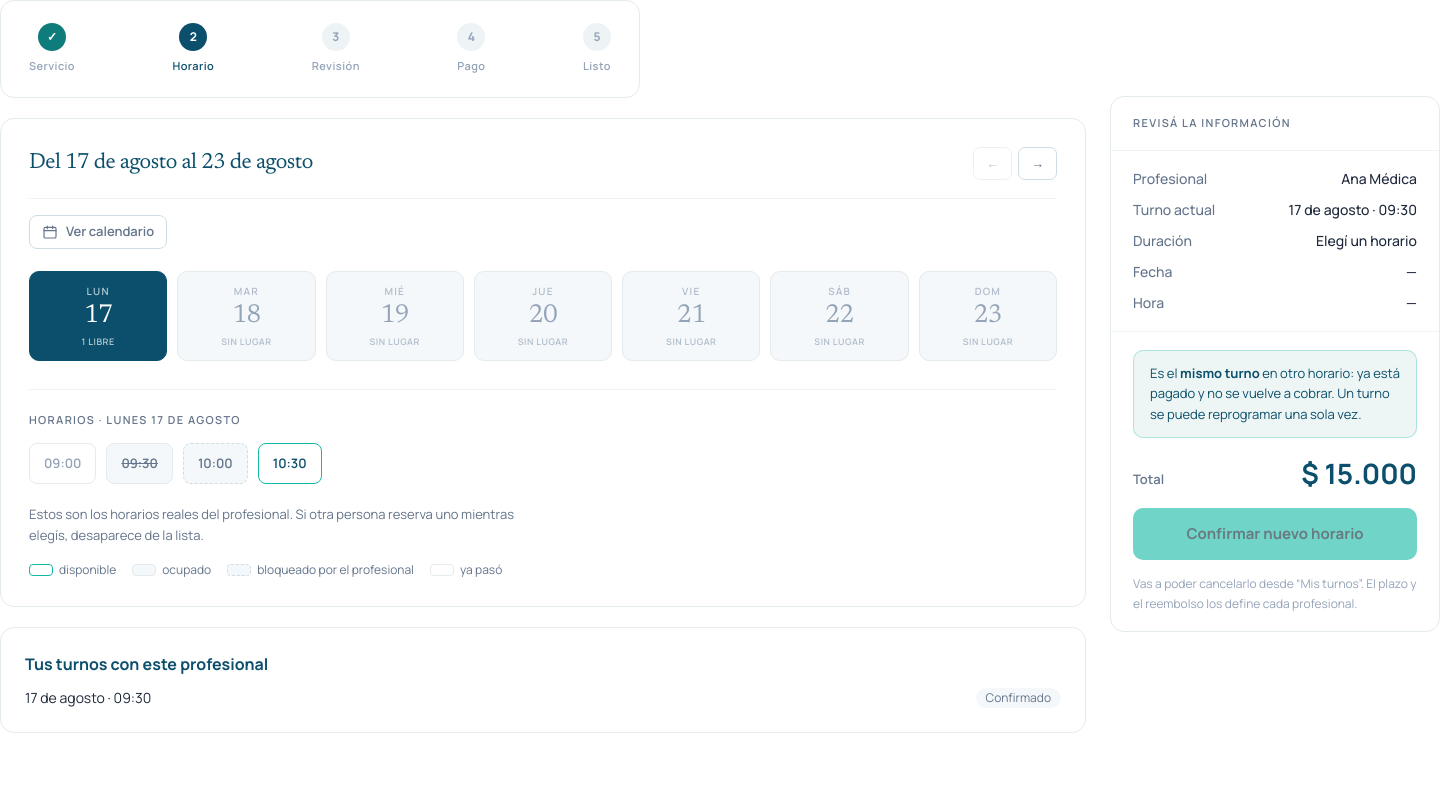
Test: BookAppointment › reprogramar (ENG-66) › al confirmar manda solo fecha y hora al endpoint de reprogramar
The width and height of the screenshot is (1440, 810).
Click the button labelled "10:30": [290, 463] box 258,442 -> 322,484
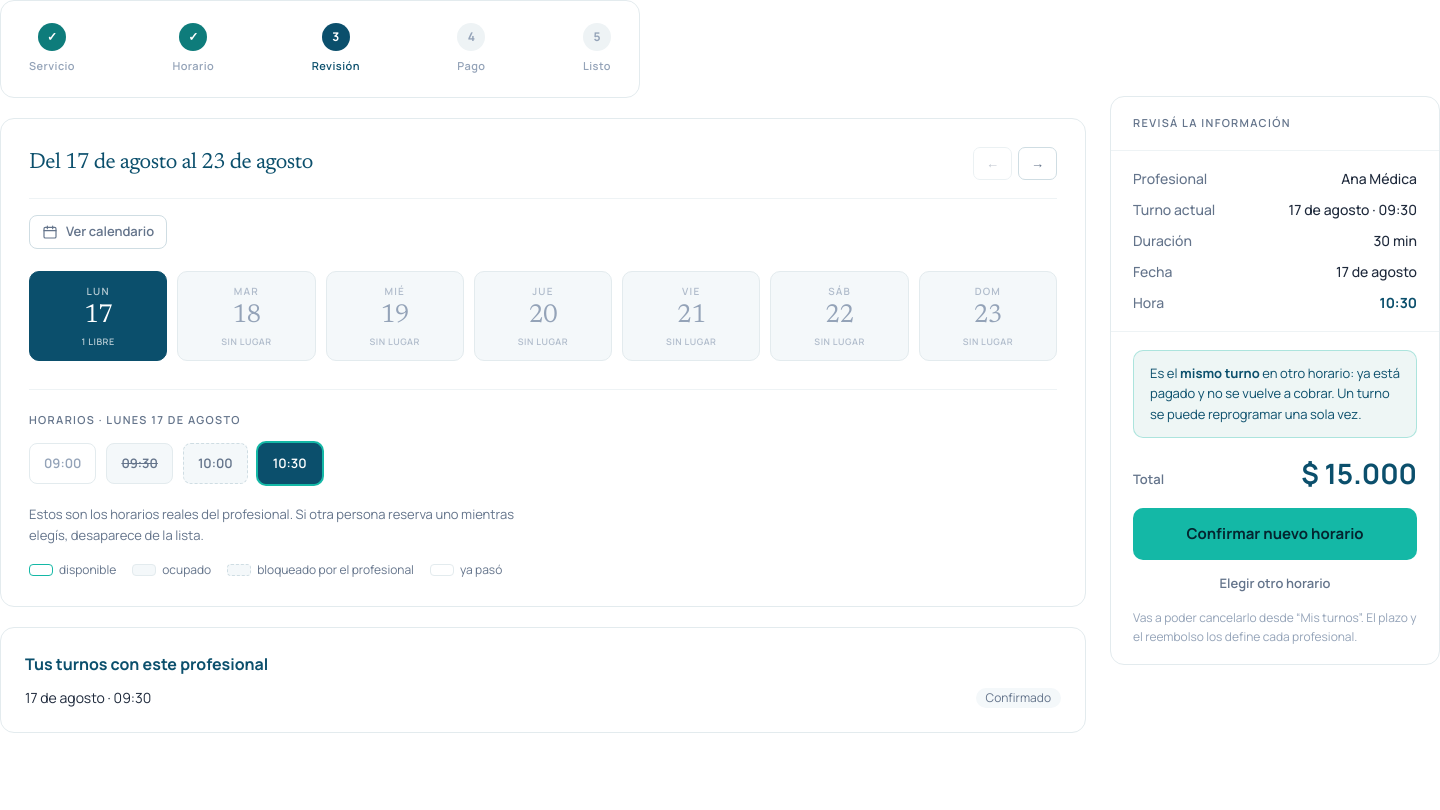
Click the button "Confirmar nuevo horario": [1275, 534] box 1133,508 -> 1417,560
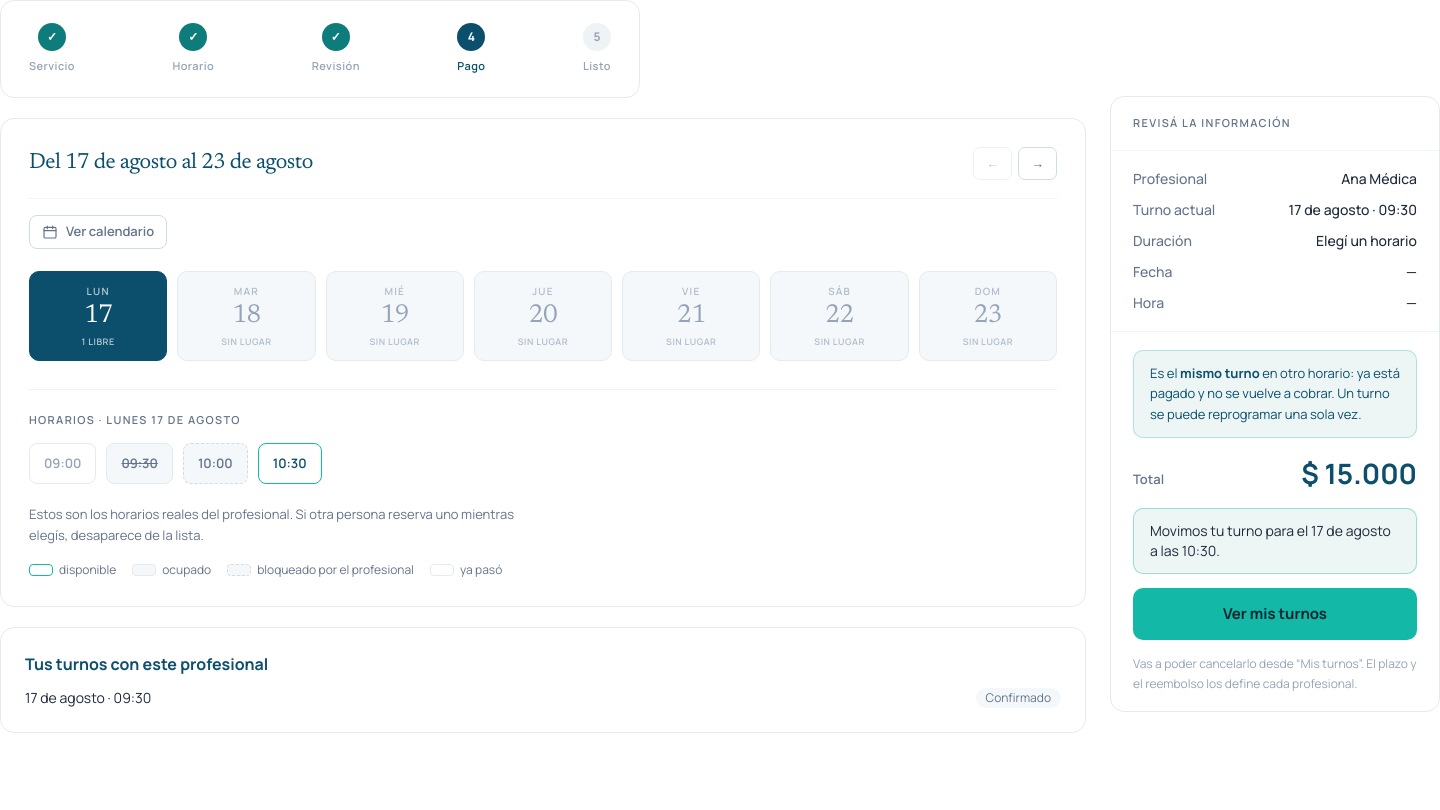
Now the text "Movimos tu turno para el 17 de agosto a las 10:30." is shown, box 1133,508 -> 1417,574
Now the link "Ver mis turnos" is shown, box 1133,588 -> 1417,640
